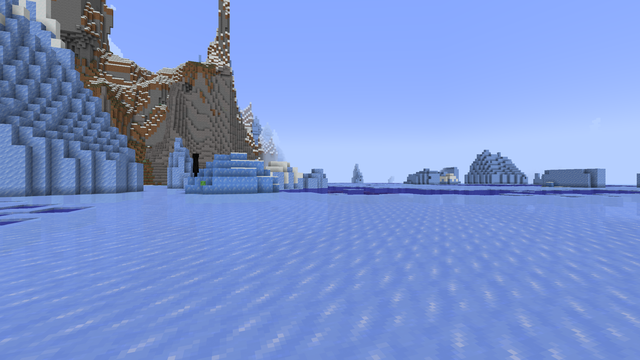endermens: (192, 152, 198, 176)
slimes: (200, 180, 205, 184)
